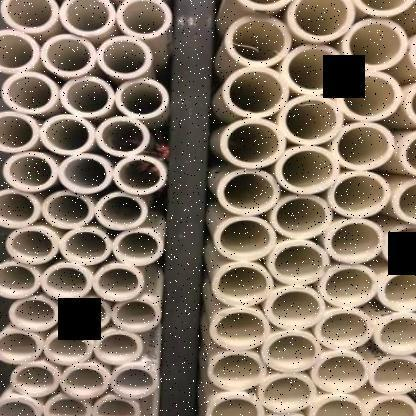pipe: (224, 14, 292, 67), (221, 66, 290, 118), (219, 118, 286, 170), (336, 70, 402, 122), (342, 18, 408, 70), (278, 94, 343, 146), (274, 144, 340, 194), (282, 43, 346, 94), (331, 122, 395, 171), (327, 171, 390, 218), (216, 170, 280, 216), (270, 195, 334, 240), (287, 0, 355, 42), (213, 216, 276, 261), (267, 240, 330, 284), (212, 262, 274, 306), (208, 308, 271, 350), (324, 219, 384, 263), (264, 287, 326, 329), (96, 36, 154, 80), (314, 308, 374, 350), (262, 331, 322, 373), (1, 72, 59, 114), (319, 266, 377, 308), (40, 34, 96, 77), (208, 351, 268, 391), (312, 352, 369, 394), (258, 374, 316, 414), (60, 76, 115, 118), (2, 151, 58, 192), (40, 114, 95, 155), (96, 116, 150, 157), (5, 226, 60, 266), (116, 78, 168, 120), (59, 154, 112, 194), (95, 191, 148, 231), (59, 0, 116, 37), (116, 0, 170, 38), (113, 156, 166, 194), (92, 264, 144, 302), (0, 0, 58, 34), (42, 191, 95, 228), (369, 355, 416, 396), (112, 229, 164, 266), (60, 228, 111, 265), (40, 264, 92, 300), (8, 296, 60, 332), (375, 268, 416, 312), (92, 331, 144, 365), (374, 313, 416, 355), (10, 363, 61, 397), (0, 28, 39, 72), (60, 297, 110, 331), (43, 332, 93, 366), (0, 188, 42, 228), (60, 364, 108, 398), (110, 365, 158, 399), (0, 110, 38, 152), (111, 300, 160, 332), (0, 262, 42, 299), (0, 330, 43, 364), (383, 223, 416, 267), (204, 393, 263, 416), (308, 395, 366, 416), (391, 178, 416, 226), (363, 394, 416, 416), (43, 395, 94, 416), (350, 0, 415, 16), (92, 396, 140, 416), (398, 128, 416, 177), (229, 0, 301, 12), (0, 398, 41, 416), (405, 79, 416, 128), (408, 25, 416, 78)
